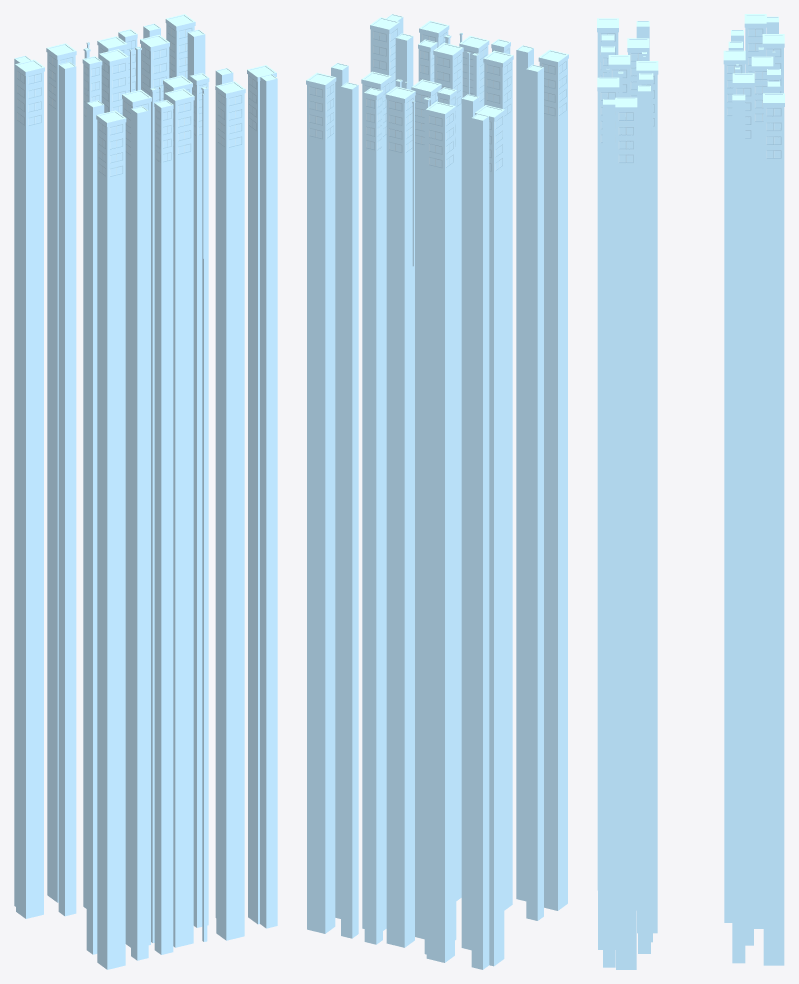
The model's file is City_under_track.glb.
3 renders of one model, left to right at view 1: azimuth 30°, elevation 25°; view 2: azimuth 150°, elevation 25°; view 3: azimuth 270°, elevation 25°, orthographic.
Parts seen in each view (by area): view 1: Bg_City_3.005; view 2: Bg_City_3.005; view 3: Bg_City_3.005.
Boxes of the visible parts, x1,y1,x2,y2 form: Bg_City_3.005: (14, 14, 277, 969); Bg_City_3.005: (306, 14, 568, 969); Bg_City_3.005: (597, 14, 784, 969).
Size of the model in its own units: 20.3 by 88.16 by 17.28.
Materials: 1 (1 with a texture image).
